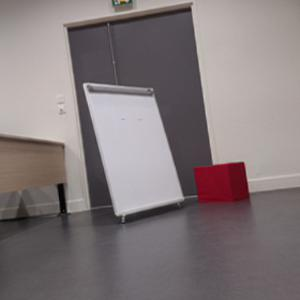big: (82, 80, 187, 219)
medium: (194, 162, 251, 204)
